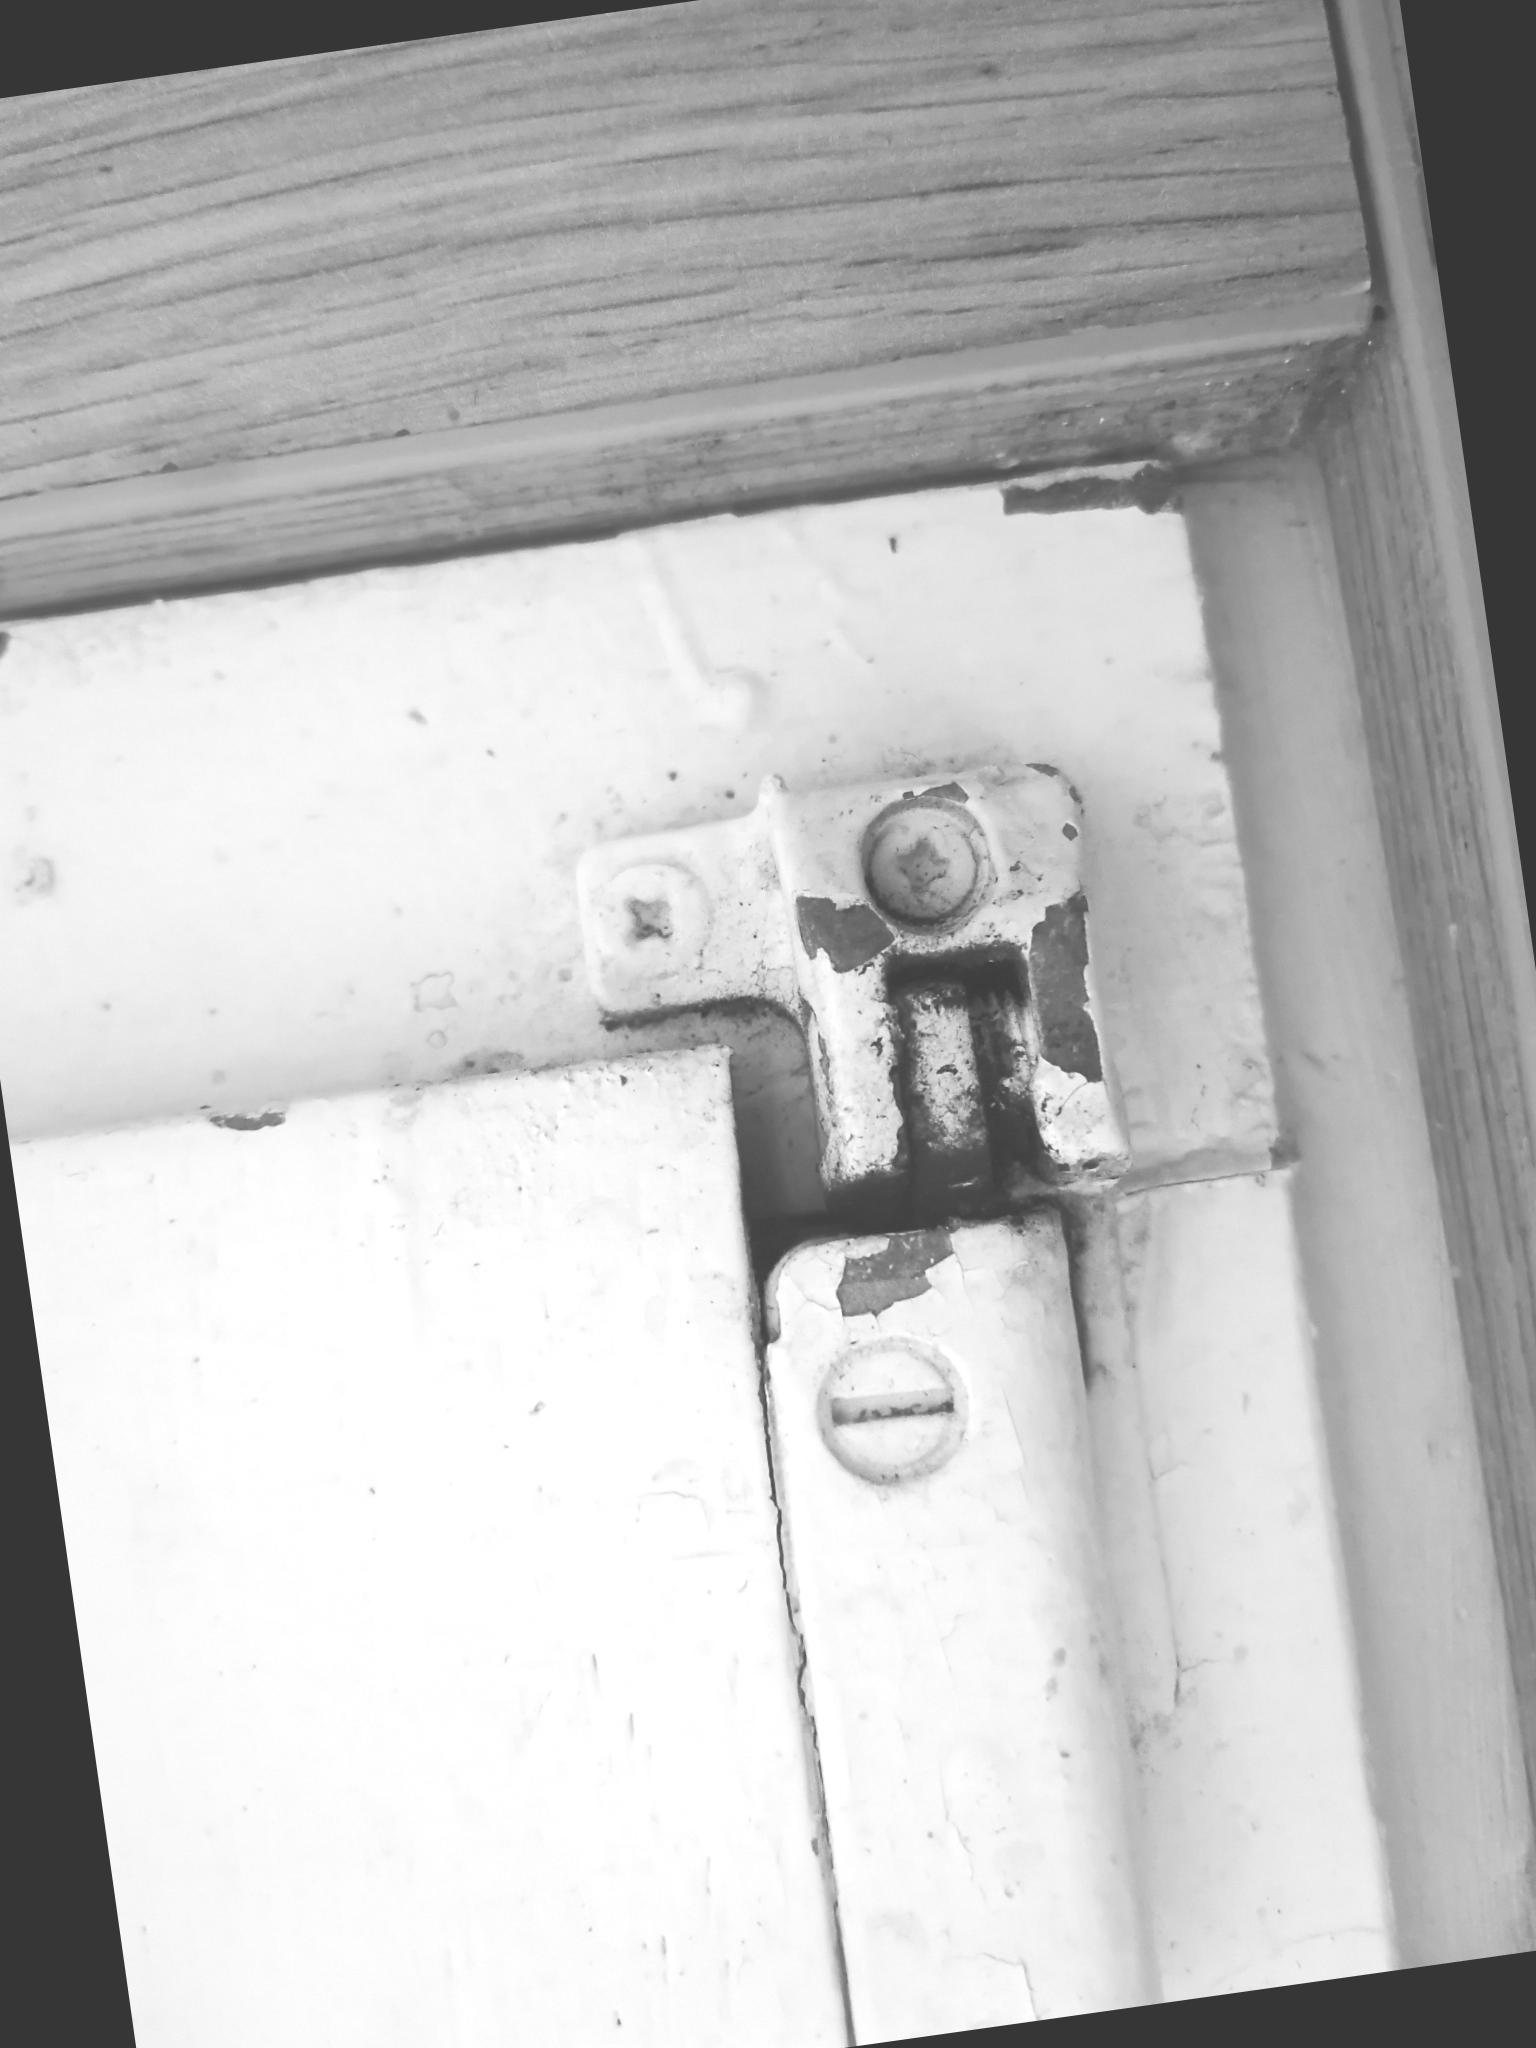screw: (799, 1322, 991, 1500), (582, 845, 734, 992), (852, 798, 1000, 935)
